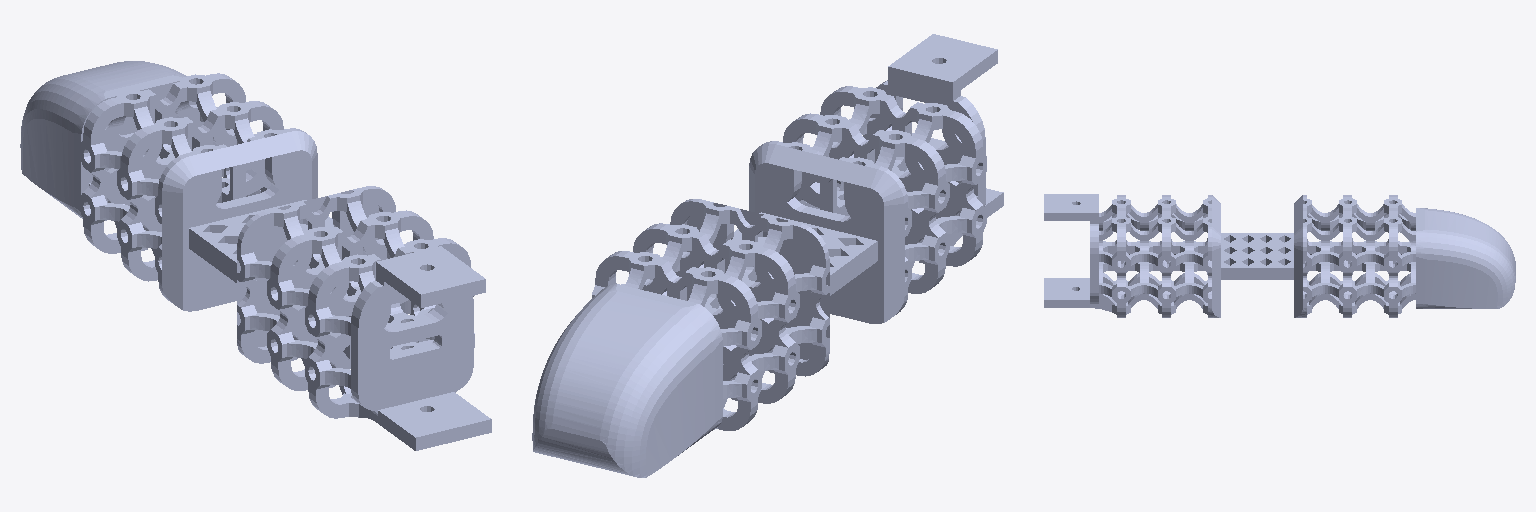
--- What the picture shows (computed from the rendered views, not written in the file) ---
Views: 3 orthographic renders of the robot side by side, from view 1: azimuth 30°, elevation 25°; view 2: azimuth 150°, elevation 25°; view 3: azimuth 270°, elevation 25°.
Robot: nfh1 — 26 links, 25 joints (25 revolute); root link base_link; default pose: all joints at 0.
Visible links, largest first — view 1: base_link, link17, link25, link8, link5, link23, link20, link2, link1, link4, link22, link7 (+7 smaller); view 2: link25, link8, link17, base_link, link23, link2, link20, link5, link21, link3, link18, link6 (+7 smaller); view 3: link25, base_link, link2, link8, link17, link23, link5, link20, link1, link24, link4, link19 (+6 smaller).
Link boxes in pixels (left/top/right/bottom): base_link: left=351, top=246, right=491, bottom=450; link17: left=155, top=128, right=317, bottom=311; link25: left=20, top=61, right=203, bottom=220; link8: left=237, top=186, right=395, bottom=363; link5: left=267, top=210, right=435, bottom=390; link23: left=80, top=73, right=245, bottom=253; link20: left=117, top=101, right=283, bottom=281; link2: left=305, top=238, right=474, bottom=418; link1: left=325, top=271, right=439, bottom=418; link4: left=287, top=228, right=431, bottom=367; link22: left=100, top=91, right=233, bottom=229; link7: left=250, top=201, right=383, bottom=339; link25: left=532, top=284, right=722, bottom=477; link8: left=749, top=141, right=911, bottom=323; link17: left=670, top=199, right=829, bottom=376; base_link: left=863, top=34, right=1003, bottom=238; link23: left=592, top=251, right=761, bottom=430; link2: left=820, top=86, right=986, bottom=266; link20: left=629, top=223, right=799, bottom=403; link5: left=783, top=113, right=949, bottom=293; link21: left=646, top=241, right=778, bottom=379; link3: left=833, top=104, right=966, bottom=242; link18: left=683, top=213, right=816, bottom=352; link6: left=812, top=131, right=928, bottom=261; link25: left=1416, top=208, right=1515, bottom=308; base_link: left=1044, top=194, right=1098, bottom=308; link2: left=1112, top=195, right=1130, bottom=317; link8: left=1203, top=195, right=1220, bottom=317; link17: left=1294, top=195, right=1311, bottom=317; link23: left=1384, top=195, right=1401, bottom=317; link5: left=1158, top=195, right=1175, bottom=317; link20: left=1339, top=195, right=1356, bottom=317; link1: left=1099, top=205, right=1111, bottom=311; link24: left=1402, top=204, right=1415, bottom=308; link4: left=1144, top=204, right=1157, bottom=308; link19: left=1325, top=204, right=1338, bottom=308.
Size in the robot's own frame: 0.0239 by 0.104 by 0.0239 metres.
26 mesh visuals loaded from 26 distinct referenced files (26 binary STL).

The robot description file, URDF, robot "nfh1":
<?xml version="1.0" encoding="utf-8"?>
<!-- This URDF was automatically created by SolidWorks to URDF Exporter! Originally created by Stephen Brawner ([email redacted]) 
     Commit Version: 1.6.0-4-g7f85cfe  Build Version: 1.6.7995.38578
     For more information, please see http://wiki.ros.org/sw_urdf_exporter -->
<robot
  name="nfh1">
  <link
    name="base_link">
    <inertial>
      <origin
        xyz="3.38271077815477E-17 -0.00152665456174176 0.00013600619686752"
        rpy="0 0 0" />
      <mass
        value="0.0010106350811003" />
      <inertia
        ixx="8.21935074102693E-08"
        ixy="1.09069372994596E-22"
        ixz="-9.53793667748096E-23"
        iyy="8.91169172879906E-08"
        iyz="3.75545527808583E-10"
        izz="3.24854532993333E-08" />
    </inertial>
    <visual>
      <origin
        xyz="0 0 0"
        rpy="0 0 0" />
      <geometry>
        <mesh
          filename="../../nfh1/meshes/base_link.STL" />
      </geometry>
      <material
        name="">
        <color
          rgba="0.792156862745098 0.819607843137255 0.933333333333333 1" />
      </material>
    </visual>
    <collision>
      <origin
        xyz="0 0 0"
        rpy="0 0 0" />
      <geometry>
        <mesh
          filename="../../nfh1/meshes/base_link.STL" />
      </geometry>
    </collision>
  </link>
  <link
    name="link1">
    <inertial>
      <origin
        xyz="-3.02968277956714E-08 0.00113442134572195 -0.00103189701894815"
        rpy="0 0 0" />
      <mass
        value="0.000198782228473331" />
      <inertia
        ixx="1.54756445032477E-09"
        ixy="1.04920853826156E-14"
        ixz="1.20628751644808E-14"
        iyy="7.78597837435174E-09"
        iyz="2.60644031070248E-11"
        izz="6.52448985383517E-09" />
    </inertial>
    <visual>
      <origin
        xyz="0 0 0"
        rpy="0 0 0" />
      <geometry>
        <mesh
          filename="../../nfh1/meshes/link1.STL" />
      </geometry>
      <material
        name="">
        <color
          rgba="0.792156862745098 0.819607843137255 0.933333333333333 1" />
      </material>
    </visual>
    <collision>
      <origin
        xyz="0 0 0"
        rpy="0 0 0" />
      <geometry>
        <mesh
          filename="../../nfh1/meshes/link1.STL" />
      </geometry>
    </collision>
  </link>
  <joint
    name="joint1"
    type="revolute">
    <origin
      xyz="0 0.002 -0.00043547"
      rpy="0 0 0" />
    <parent
      link="base_link" />
    <child
      link="link1" />
    <axis
      xyz="1 0 0" />
    <limit
      lower="0"
      upper="3"
      effort="0"
      velocity="0" />
  </joint>
  <link
    name="link2">
    <inertial>
      <origin
        xyz="2.04116237800811E-14 0.00199999999999673 2.25687524224583E-15"
        rpy="0 0 0" />
      <mass
        value="0.000426578933420392" />
      <inertia
        ixx="2.40312572201313E-08"
        ixy="1.08441426979082E-20"
        ixz="1.58390450486601E-14"
        iyy="5.02579655004393E-08"
        iyz="-8.12741302547014E-22"
        izz="2.69722292223729E-08" />
    </inertial>
    <visual>
      <origin
        xyz="0 0 0"
        rpy="0 0 0" />
      <geometry>
        <mesh
          filename="../../nfh1/meshes/link2.STL" />
      </geometry>
      <material
        name="">
        <color
          rgba="0.792156862745098 0.819607843137255 0.933333333333333 1" />
      </material>
    </visual>
    <collision>
      <origin
        xyz="0 0 0"
        rpy="0 0 0" />
      <geometry>
        <mesh
          filename="../../nfh1/meshes/link2.STL" />
      </geometry>
    </collision>
  </link>
  <joint
    name="joint2"
    type="revolute">
    <origin
      xyz="0 0.003 0"
      rpy="0 0 0" />
    <parent
      link="link1" />
    <child
      link="link2" />
    <axis
      xyz="1 0 0" />
    <limit
      lower="0"
      upper="3"
      effort="0"
      velocity="0" />
  </joint>
  <link
    name="link3">
    <inertial>
      <origin
        xyz="-1.85210429458349E-09 0.00188788673228118 9.25942005708391E-09"
        rpy="0 0 0" />
      <mass
        value="0.000177041699595263" />
      <inertia
        ixx="1.04521718092597E-09"
        ixy="8.84382829525734E-16"
        ixz="-3.68957976869567E-14"
        iyy="6.780090216707E-09"
        iyz="3.47697738614603E-16"
        izz="5.99075813384719E-09" />
    </inertial>
    <visual>
      <origin
        xyz="0 0 0"
        rpy="0 0 0" />
      <geometry>
        <mesh
          filename="../../nfh1/meshes/link3.STL" />
      </geometry>
      <material
        name="">
        <color
          rgba="0.792156862745098 0.819607843137255 0.933333333333333 1" />
      </material>
    </visual>
    <collision>
      <origin
        xyz="0 0 0"
        rpy="0 0 0" />
      <geometry>
        <mesh
          filename="../../nfh1/meshes/link3.STL" />
      </geometry>
    </collision>
  </link>
  <joint
    name="joint3"
    type="revolute">
    <origin
      xyz="0 0.004 0"
      rpy="0 0 0" />
    <parent
      link="link2" />
    <child
      link="link3" />
    <axis
      xyz="1 0 0" />
    <limit
      lower="0"
      upper="3"
      effort="0"
      velocity="0" />
  </joint>
  <link
    name="link4">
    <inertial>
      <origin
        xyz="-1.85220484522769E-09 0.00111211326769552 -9.25926902685392E-09"
        rpy="0 0 0" />
      <mass
        value="0.000177041699591455" />
      <inertia
        ixx="1.04521718092059E-09"
        ixy="-8.84414594885132E-16"
        ixz="3.68958562620462E-14"
        iyy="6.78009021647453E-09"
        iyz="3.47696486133909E-16"
        izz="5.99075813360752E-09" />
    </inertial>
    <visual>
      <origin
        xyz="0 0 0"
        rpy="0 0 0" />
      <geometry>
        <mesh
          filename="../../nfh1/meshes/link4.STL" />
      </geometry>
      <material
        name="">
        <color
          rgba="0.792156862745098 0.819607843137255 0.933333333333333 1" />
      </material>
    </visual>
    <collision>
      <origin
        xyz="0 0 0"
        rpy="0 0 0" />
      <geometry>
        <mesh
          filename="../../nfh1/meshes/link4.STL" />
      </geometry>
    </collision>
  </link>
  <joint
    name="joint4"
    type="revolute">
    <origin
      xyz="0 0.003 0"
      rpy="0 0 0" />
    <parent
      link="link3" />
    <child
      link="link4" />
    <axis
      xyz="1 0 0" />
    <limit
      lower="0"
      upper="3"
      effort="0"
      velocity="0" />
  </joint>
  <link
    name="link5">
    <inertial>
      <origin
        xyz="3.16587034365767E-16 0.00199999999999984 2.94902990916057E-17"
        rpy="0 0 0" />
      <mass
        value="0.000426578933419002" />
      <inertia
        ixx="2.40312572201162E-08"
        ixy="5.53023048996122E-22"
        ixz="1.58390444679449E-14"
        iyy="5.02579655003556E-08"
        iyz="3.33937442954536E-22"
        izz="2.69722292223007E-08" />
    </inertial>
    <visual>
      <origin
        xyz="0 0 0"
        rpy="0 0 0" />
      <geometry>
        <mesh
          filename="../../nfh1/meshes/link5.STL" />
      </geometry>
      <material
        name="">
        <color
          rgba="0.792156862745098 0.819607843137255 0.933333333333333 1" />
      </material>
    </visual>
    <collision>
      <origin
        xyz="0 0 0"
        rpy="0 0 0" />
      <geometry>
        <mesh
          filename="../../nfh1/meshes/link5.STL" />
      </geometry>
    </collision>
  </link>
  <joint
    name="joint5"
    type="revolute">
    <origin
      xyz="0 0.003 0"
      rpy="0 0 0" />
    <parent
      link="link4" />
    <child
      link="link5" />
    <axis
      xyz="1 0 0" />
    <limit
      lower="0"
      upper="3"
      effort="0"
      velocity="0" />
  </joint>
  <link
    name="link6">
    <inertial>
      <origin
        xyz="-1.85304629713584E-09 0.00188788673222637 9.25894851587505E-09"
        rpy="0 0 0" />
      <mass
        value="0.000177041699612827" />
      <inertia
        ixx="1.04521718094737E-09"
        ixy="8.84331514880089E-16"
        ixz="-3.68957016060218E-14"
        iyy="6.78009021785023E-09"
        iyz="3.47704440244518E-16"
        izz="5.99075813499962E-09" />
    </inertial>
    <visual>
      <origin
        xyz="0 0 0"
        rpy="0 0 0" />
      <geometry>
        <mesh
          filename="../../nfh1/meshes/link6.STL" />
      </geometry>
      <material
        name="">
        <color
          rgba="0.792156862745098 0.819607843137255 0.933333333333333 1" />
      </material>
    </visual>
    <collision>
      <origin
        xyz="0 0 0"
        rpy="0 0 0" />
      <geometry>
        <mesh
          filename="../../nfh1/meshes/link6.STL" />
      </geometry>
    </collision>
  </link>
  <joint
    name="joint6"
    type="revolute">
    <origin
      xyz="0 0.004 0"
      rpy="0 0 0" />
    <parent
      link="link5" />
    <child
      link="link6" />
    <axis
      xyz="1 0 0" />
    <limit
      lower="0"
      upper="3"
      effort="0"
      velocity="0" />
  </joint>
  <link
    name="link7">
    <inertial>
      <origin
        xyz="-1.85217126965481E-09 0.00111211326771995 -9.2592722395618E-09"
        rpy="0 0 0" />
      <mass
        value="0.000177041699592343" />
      <inertia
        ixx="1.04521718091653E-09"
        ixy="-8.84384732571617E-16"
        ixz="3.68959110097901E-14"
        iyy="6.78009021664487E-09"
        iyz="3.47696110296643E-16"
        izz="5.99075813379512E-09" />
    </inertial>
    <visual>
      <origin
        xyz="0 0 0"
        rpy="0 0 0" />
      <geometry>
        <mesh
          filename="../../nfh1/meshes/link7.STL" />
      </geometry>
      <material
        name="">
        <color
          rgba="0.792156862745098 0.819607843137255 0.933333333333333 1" />
      </material>
    </visual>
    <collision>
      <origin
        xyz="0 0 0"
        rpy="0 0 0" />
      <geometry>
        <mesh
          filename="../../nfh1/meshes/link7.STL" />
      </geometry>
    </collision>
  </link>
  <joint
    name="joint7"
    type="revolute">
    <origin
      xyz="0 0.003 0"
      rpy="0 0 0" />
    <parent
      link="link6" />
    <child
      link="link7" />
    <axis
      xyz="1 0 0" />
    <limit
      lower="0"
      upper="3"
      effort="0"
      velocity="0" />
  </joint>
  <link
    name="link8">
    <inertial>
      <origin
        xyz="-3.03888357620213E-09 0.00259277247993408 -0.00095049373758898"
        rpy="0 0 0" />
      <mass
        value="0.0010266417760455" />
      <inertia
        ixx="4.11004796506741E-08"
        ixy="-2.66382276095118E-14"
        ixz="-1.7805024963789E-14"
        iyy="8.86548394837283E-08"
        iyz="5.31597018204856E-10"
        izz="4.92201079166408E-08" />
    </inertial>
    <visual>
      <origin
        xyz="0 0 0"
        rpy="0 0 0" />
      <geometry>
        <mesh
          filename="../../nfh1/meshes/link8.STL" />
      </geometry>
      <material
        name="">
        <color
          rgba="0.792156862745098 0.819607843137255 0.933333333333333 1" />
      </material>
    </visual>
    <collision>
      <origin
        xyz="0 0 0"
        rpy="0 0 0" />
      <geometry>
        <mesh
          filename="../../nfh1/meshes/link8.STL" />
      </geometry>
    </collision>
  </link>
  <joint
    name="joint8"
    type="revolute">
    <origin
      xyz="0 0.003 0"
      rpy="0 0 0" />
    <parent
      link="link7" />
    <child
      link="link8" />
    <axis
      xyz="1 0 0" />
    <limit
      lower="0"
      upper="3"
      effort="0"
      velocity="0" />
  </joint>
  <link
    name="link9">
    <inertial>
      <origin
        xyz="-5.46437894932694E-17 0.000833333333333332 -1.73472347597681E-18"
        rpy="0 0 0" />
      <mass
        value="8.10000000000002E-05" />
      <inertia
        ixx="8.43750000000006E-11"
        ixy="2.92242883488534E-24"
        ixz="-8.55086023776014E-25"
        iyy="2.31075000000001E-09"
        iyz="-2.97461309303528E-26"
        izz="2.27362500000001E-09" />
    </inertial>
    <visual>
      <origin
        xyz="0 0 0"
        rpy="0 0 0" />
      <geometry>
        <mesh
          filename="../../nfh1/meshes/link9.STL" />
      </geometry>
      <material
        name="">
        <color
          rgba="0.792156862745098 0.819607843137255 0.933333333333333 1" />
      </material>
    </visual>
    <collision>
      <origin
        xyz="0 0 0"
        rpy="0 0 0" />
      <geometry>
        <mesh
          filename="../../nfh1/meshes/link9.STL" />
      </geometry>
    </collision>
  </link>
  <joint
    name="joint9"
    type="revolute">
    <origin
      xyz="0 0.004 0"
      rpy="0 0 0" />
    <parent
      link="link8" />
    <child
      link="link9" />
    <axis
      xyz="1 0 0" />
    <limit
      lower="0"
      upper="3"
      effort="0"
      velocity="0" />
  </joint>
  <link
    name="link10">
    <inertial>
      <origin
        xyz="-5.63785129692462E-17 0.00116666666666666 -1.73472347597681E-18"
        rpy="0 0 0" />
      <mass
        value="8.10000000000005E-05" />
      <inertia
        ixx="8.43750000000004E-11"
        ixy="-3.07542157065845E-24"
        ixz="3.42796988361759E-25"
        iyy="2.31075000000001E-09"
        iyz="1.86720834430788E-26"
        izz="2.27362500000001E-09" />
    </inertial>
    <visual>
      <origin
        xyz="0 0 0"
        rpy="0 0 0" />
      <geometry>
        <mesh
          filename="../../nfh1/meshes/link10.STL" />
      </geometry>
      <material
        name="">
        <color
          rgba="0.792156862745098 0.819607843137255 0.933333333333333 1" />
      </material>
    </visual>
    <collision>
      <origin
        xyz="0 0 0"
        rpy="0 0 0" />
      <geometry>
        <mesh
          filename="../../nfh1/meshes/link10.STL" />
      </geometry>
    </collision>
  </link>
  <joint
    name="joint10"
    type="revolute">
    <origin
      xyz="0 0.002 0"
      rpy="0 0 0" />
    <parent
      link="link9" />
    <child
      link="link10" />
    <axis
      xyz="1 0 0" />
    <limit
      lower="0"
      upper="3"
      effort="0"
      velocity="0" />
  </joint>
  <link
    name="link11">
    <inertial>
      <origin
        xyz="-3.64291929955129E-17 0.000833333333333332 -1.73472347597681E-18"
        rpy="0 0 0" />
      <mass
        value="8.09999999999997E-05" />
      <inertia
        ixx="8.43749999999972E-11"
        ixy="1.96738543955592E-24"
        ixz="-3.05994319520648E-25"
        iyy="2.31075E-09"
        iyz="-2.13678943482114E-26"
        izz="2.273625E-09" />
    </inertial>
    <visual>
      <origin
        xyz="0 0 0"
        rpy="0 0 0" />
      <geometry>
        <mesh
          filename="../../nfh1/meshes/link11.STL" />
      </geometry>
      <material
        name="">
        <color
          rgba="0.792156862745098 0.819607843137255 0.933333333333333 1" />
      </material>
    </visual>
    <collision>
      <origin
        xyz="0 0 0"
        rpy="0 0 0" />
      <geometry>
        <mesh
          filename="../../nfh1/meshes/link11.STL" />
      </geometry>
    </collision>
  </link>
  <joint
    name="joint11"
    type="revolute">
    <origin
      xyz="0 0.002 0"
      rpy="0 0 0" />
    <parent
      link="link10" />
    <child
      link="link11" />
    <axis
      xyz="1 0 0" />
    <limit
      lower="0"
      upper="3"
      effort="0"
      velocity="0" />
  </joint>
  <link
    name="link12">
    <inertial>
      <origin
        xyz="-3.72965547335014E-17 0.00116666666666667 -1.73472347597681E-18"
        rpy="0 0 0" />
      <mass
        value="8.10000000000007E-05" />
      <inertia
        ixx="8.43750000000011E-11"
        ixy="-1.93605819528781E-24"
        ixz="-2.95930406553499E-26"
        iyy="2.31075000000001E-09"
        iyz="9.95985777925864E-27"
        izz="2.27362500000001E-09" />
    </inertial>
    <visual>
      <origin
        xyz="0 0 0"
        rpy="0 0 0" />
      <geometry>
        <mesh
          filename="../../nfh1/meshes/link12.STL" />
      </geometry>
      <material
        name="">
        <color
          rgba="0.792156862745098 0.819607843137255 0.933333333333333 1" />
      </material>
    </visual>
    <collision>
      <origin
        xyz="0 0 0"
        rpy="0 0 0" />
      <geometry>
        <mesh
          filename="../../nfh1/meshes/link12.STL" />
      </geometry>
    </collision>
  </link>
  <joint
    name="joint12"
    type="revolute">
    <origin
      xyz="0 0.002 0"
      rpy="0 0 0" />
    <parent
      link="link11" />
    <child
      link="link12" />
    <axis
      xyz="1 0 0" />
    <limit
      lower="0"
      upper="3"
      effort="0"
      velocity="0" />
  </joint>
  <link
    name="link13">
    <inertial>
      <origin
        xyz="-1.90819582357449E-17 0.000833333333333339 1.73472347597681E-18"
        rpy="0 0 0" />
      <mass
        value="8.09999999999995E-05" />
      <inertia
        ixx="8.43749999999985E-11"
        ixy="1.0021015778622E-24"
        ixz="-2.80106875926232E-25"
        iyy="2.31075E-09"
        iyz="-3.81924985088125E-26"
        izz="2.273625E-09" />
    </inertial>
    <visual>
      <origin
        xyz="0 0 0"
        rpy="0 0 0" />
      <geometry>
        <mesh
          filename="../../nfh1/meshes/link13.STL" />
      </geometry>
      <material
        name="">
        <color
          rgba="0.792156862745098 0.819607843137255 0.933333333333333 1" />
      </material>
    </visual>
    <collision>
      <origin
        xyz="0 0 0"
        rpy="0 0 0" />
      <geometry>
        <mesh
          filename="../../nfh1/meshes/link13.STL" />
      </geometry>
    </collision>
  </link>
  <joint
    name="joint13"
    type="revolute">
    <origin
      xyz="0 0.002 0"
      rpy="0 0 0" />
    <parent
      link="link12" />
    <child
      link="link13" />
    <axis
      xyz="1 0 0" />
    <limit
      lower="0"
      upper="3"
      effort="0"
      velocity="0" />
  </joint>
  <link
    name="link14">
    <inertial>
      <origin
        xyz="-1.82145964977565E-17 0.00116666666666666 0"
        rpy="0 0 0" />
      <mass
        value="8.10000000000009E-05" />
      <inertia
        ixx="8.43750000000015E-11"
        ixy="-1.01141644743106E-24"
        ixz="2.30587450828703E-25"
        iyy="2.31075000000001E-09"
        iyz="-7.05249727203203E-27"
        izz="2.27362500000001E-09" />
    </inertial>
    <visual>
      <origin
        xyz="0 0 0"
        rpy="0 0 0" />
      <geometry>
        <mesh
          filename="../../nfh1/meshes/link14.STL" />
      </geometry>
      <material
        name="">
        <color
          rgba="0.792156862745098 0.819607843137255 0.933333333333333 1" />
      </material>
    </visual>
    <collision>
      <origin
        xyz="0 0 0"
        rpy="0 0 0" />
      <geometry>
        <mesh
          filename="../../nfh1/meshes/link14.STL" />
      </geometry>
    </collision>
  </link>
  <joint
    name="joint14"
    type="revolute">
    <origin
      xyz="0 0.002 0"
      rpy="0 0 0" />
    <parent
      link="link13" />
    <child
      link="link14" />
    <axis
      xyz="1 0 0" />
    <limit
      lower="0"
      upper="3"
      effort="0"
      velocity="0" />
  </joint>
  <link
    name="link15">
    <inertial>
      <origin
        xyz="0 0.00083333 1.7347E-18"
        rpy="0 0 0" />
      <mass
        value="8.1E-05" />
      <inertia
        ixx="8.4375E-11"
        ixy="9.7337E-26"
        ixz="3.4405E-25"
        iyy="2.3107E-09"
        iyz="-1.032E-25"
        izz="2.2736E-09" />
    </inertial>
    <visual>
      <origin
        xyz="0 0 0"
        rpy="0 0 0" />
      <geometry>
        <mesh
          filename="../../nfh1/meshes/link15.STL" />
      </geometry>
      <material
        name="">
        <color
          rgba="0.79216 0.81961 0.93333 1" />
      </material>
    </visual>
    <collision>
      <origin
        xyz="0 0 0"
        rpy="0 0 0" />
      <geometry>
        <mesh
          filename="../../nfh1/meshes/link15.STL" />
      </geometry>
    </collision>
  </link>
  <joint
    name="joint15"
    type="revolute">
    <origin
      xyz="0 0.002 0"
      rpy="0 0 0" />
    <parent
      link="link14" />
    <child
      link="link15" />
    <axis
      xyz="1 0 0" />
    <limit
      lower="0"
      upper="3"
      effort="0"
      velocity="0" />
  </joint>
  <link
    name="link16">
    <inertial>
      <origin
        xyz="-8.67361737988404E-19 0.00116666666666665 -1.73472347597681E-18"
        rpy="0 0 0" />
      <mass
        value="8.09999999999998E-05" />
      <inertia
        ixx="8.43750000000003E-11"
        ixy="-1.45597427740292E-25"
        ixz="1.33569597137202E-25"
        iyy="2.31074999999998E-09"
        iyz="-5.16546120738732E-27"
        izz="2.27362499999998E-09" />
    </inertial>
    <visual>
      <origin
        xyz="0 0 0"
        rpy="0 0 0" />
      <geometry>
        <mesh
          filename="../../nfh1/meshes/link16.STL" />
      </geometry>
      <material
        name="">
        <color
          rgba="0.792156862745098 0.819607843137255 0.933333333333333 1" />
      </material>
    </visual>
    <collision>
      <origin
        xyz="0 0 0"
        rpy="0 0 0" />
      <geometry>
        <mesh
          filename="../../nfh1/meshes/link16.STL" />
      </geometry>
    </collision>
  </link>
  <joint
    name="joint16"
    type="revolute">
    <origin
      xyz="0 0.002 0"
      rpy="0 0 0" />
    <parent
      link="link15" />
    <child
      link="link16" />
    <axis
      xyz="1 0 0" />
    <limit
      lower="0"
      upper="3"
      effort="0"
      velocity="0" />
  </joint>
  <link
    name="link17">
    <inertial>
      <origin
        xyz="3.0389E-09 0.0014072 -0.00095049"
        rpy="0 0 0" />
      <mass
        value="0.0010266" />
      <inertia
        ixx="4.11E-08"
        ixy="-2.6638E-14"
        ixz="1.7805E-14"
        iyy="8.8655E-08"
        iyz="-5.316E-10"
        izz="4.922E-08" />
    </inertial>
    <visual>
      <origin
        xyz="0 0 0"
        rpy="0 0 0" />
      <geometry>
        <mesh
          filename="../../nfh1/meshes/link17.STL" />
      </geometry>
      <material
        name="">
        <color
          rgba="0.79216 0.81961 0.93333 1" />
      </material>
    </visual>
    <collision>
      <origin
        xyz="0 0 0"
        rpy="0 0 0" />
      <geometry>
        <mesh
          filename="../../nfh1/meshes/link17.STL" />
      </geometry>
    </collision>
  </link>
  <joint
    name="joint17"
    type="revolute">
    <origin
      xyz="0 0.002 0"
      rpy="0 0 0" />
    <parent
      link="link16" />
    <child
      link="link17" />
    <axis
      xyz="1 0 0" />
    <limit
      lower="0"
      upper="3"
      effort="0"
      velocity="0" />
  </joint>
  <link
    name="link18">
    <inertial>
      <origin
        xyz="-1.85210907721611E-09 0.00188788673228193 9.25941985932544E-09"
        rpy="0 0 0" />
      <mass
        value="0.000177041699595134" />
      <inertia
        ixx="1.04521718092574E-09"
        ixy="8.84381809648875E-16"
        ixz="-3.68957976733367E-14"
        iyy="6.78009021670153E-09"
        iyz="3.47697753969144E-16"
        izz="5.99075813384154E-09" />
    </inertial>
    <visual>
      <origin
        xyz="0 0 0"
        rpy="0 0 0" />
      <geometry>
        <mesh
          filename="../../nfh1/meshes/link18.STL" />
      </geometry>
      <material
        name="">
        <color
          rgba="0.792156862745098 0.819607843137255 0.933333333333333 1" />
      </material>
    </visual>
    <collision>
      <origin
        xyz="0 0 0"
        rpy="0 0 0" />
      <geometry>
        <mesh
          filename="../../nfh1/meshes/link18.STL" />
      </geometry>
    </collision>
  </link>
  <joint
    name="joint18"
    type="revolute">
    <origin
      xyz="0 0.004 0"
      rpy="0 0 0" />
    <parent
      link="link17" />
    <child
      link="link18" />
    <axis
      xyz="1 0 0" />
    <limit
      lower="0"
      upper="3"
      effort="0"
      velocity="0" />
  </joint>
  <link
    name="link19">
    <inertial>
      <origin
        xyz="-1.85312260588683E-09 0.00111211326777413 -9.2596469467715E-09"
        rpy="0 0 0" />
      <mass
        value="0.00017704169961621" />
      <inertia
        ixx="1.045217180958E-09"
        ixy="-8.84332056180977E-16"
        ixz="3.68960054813993E-14"
        iyy="6.78009021793177E-09"
        iyz="3.47689119657577E-16"
        izz="5.99075813507066E-09" />
    </inertial>
    <visual>
      <origin
        xyz="0 0 0"
        rpy="0 0 0" />
      <geometry>
        <mesh
          filename="../../nfh1/meshes/link19.STL" />
      </geometry>
      <material
        name="">
        <color
          rgba="0.792156862745098 0.819607843137255 0.933333333333333 1" />
      </material>
    </visual>
    <collision>
      <origin
        xyz="0 0 0"
        rpy="0 0 0" />
      <geometry>
        <mesh
          filename="../../nfh1/meshes/link19.STL" />
      </geometry>
    </collision>
  </link>
  <joint
    name="joint19"
    type="revolute">
    <origin
      xyz="0 0.003 0"
      rpy="0 0 0" />
    <parent
      link="link18" />
    <child
      link="link19" />
    <axis
      xyz="1 0 0" />
    <limit
      lower="0"
      upper="3"
      effort="0"
      velocity="0" />
  </joint>
  <link
    name="link20">
    <inertial>
      <origin
        xyz="2.949E-16 0.002 -6.245E-17"
        rpy="0 0 0" />
      <mass
        value="0.00042658" />
      <inertia
        ixx="2.4031E-08"
        ixy="-5.7522E-22"
        ixz="-1.5839E-14"
        iyy="5.0258E-08"
        iyz="-3.241E-22"
        izz="2.6972E-08" />
    </inertial>
    <visual>
      <origin
        xyz="0 0 0"
        rpy="0 0 0" />
      <geometry>
        <mesh
          filename="../../nfh1/meshes/link20.STL" />
      </geometry>
      <material
        name="">
        <color
          rgba="0.79216 0.81961 0.93333 1" />
      </material>
    </visual>
    <collision>
      <origin
        xyz="0 0 0"
        rpy="0 0 0" />
      <geometry>
        <mesh
          filename="../../nfh1/meshes/link20.STL" />
      </geometry>
    </collision>
  </link>
  <joint
    name="joint20"
    type="revolute">
    <origin
      xyz="0 0.003 0"
      rpy="0 0 0" />
    <parent
      link="link19" />
    <child
      link="link20" />
    <axis
      xyz="1 0 0" />
    <limit
      lower="0"
      upper="3"
      effort="0"
      velocity="0" />
  </joint>
  <link
    name="link21">
    <inertial>
      <origin
        xyz="-1.85212578520527E-09 0.00188788673230469 9.2593287238929E-09"
        rpy="0 0 0" />
      <mass
        value="0.000177041699588148" />
      <inertia
        ixx="1.04521718091002E-09"
        ixy="8.84414436874819E-16"
        ixz="-3.68958511803103E-14"
        iyy="6.78009021639738E-09"
        iyz="3.47697111230421E-16"
        izz="5.99075813354088E-09" />
    </inertial>
    <visual>
      <origin
        xyz="0 0 0"
        rpy="0 0 0" />
      <geometry>
        <mesh
          filename="../../nfh1/meshes/link21.STL" />
      </geometry>
      <material
        name="">
        <color
          rgba="0.792156862745098 0.819607843137255 0.933333333333333 1" />
      </material>
    </visual>
    <collision>
      <origin
        xyz="0 0 0"
        rpy="0 0 0" />
      <geometry>
        <mesh
          filename="../../nfh1/meshes/link21.STL" />
      </geometry>
    </collision>
  </link>
  <joint
    name="joint21"
    type="revolute">
    <origin
      xyz="0 0.004 0"
      rpy="0 0 0" />
    <parent
      link="link20" />
    <child
      link="link21" />
    <axis
      xyz="1 0 0" />
    <limit
      lower="0"
      upper="3"
      effort="0"
      velocity="0" />
  </joint>
  <link
    name="link22">
    <inertial>
      <origin
        xyz="-1.8522E-09 0.0011121 -9.2593E-09"
        rpy="0 0 0" />
      <mass
        value="0.00017704" />
      <inertia
        ixx="1.0452E-09"
        ixy="-8.8438E-16"
        ixz="3.6896E-14"
        iyy="6.7801E-09"
        iyz="3.477E-16"
        izz="5.9908E-09" />
    </inertial>
    <visual>
      <origin
        xyz="0 0 0"
        rpy="0 0 0" />
      <geometry>
        <mesh
          filename="../../nfh1/meshes/link22.STL" />
      </geometry>
      <material
        name="">
        <color
          rgba="0.79216 0.81961 0.93333 1" />
      </material>
    </visual>
    <collision>
      <origin
        xyz="0 0 0"
        rpy="0 0 0" />
      <geometry>
        <mesh
          filename="../../nfh1/meshes/link22.STL" />
      </geometry>
    </collision>
  </link>
  <joint
    name="joint22"
    type="revolute">
    <origin
      xyz="0 0.003 0"
      rpy="0 0 0" />
    <parent
      link="link21" />
    <child
      link="link22" />
    <axis
      xyz="1 0 0" />
    <limit
      lower="0"
      upper="3"
      effort="0"
      velocity="0" />
  </joint>
  <link
    name="link23">
    <inertial>
      <origin
        xyz="-4.25528023494798E-09 0.00200319378405478 1.99201304004071E-05"
        rpy="0 0 0" />
      <mass
        value="0.000427551960688234" />
      <inertia
        ixx="2.41076400365124E-08"
        ixy="7.90954943747629E-15"
        ixz="-3.44632846965697E-15"
        iyy="5.03556158003561E-08"
        iyz="-1.18913452372501E-11"
        izz="2.69974746683614E-08" />
    </inertial>
    <visual>
      <origin
        xyz="0 0 0"
        rpy="0 0 0" />
      <geometry>
        <mesh
          filename="../../nfh1/meshes/link23.STL" />
      </geometry>
      <material
        name="">
        <color
          rgba="0.792156862745098 0.819607843137255 0.933333333333333 1" />
      </material>
    </visual>
    <collision>
      <origin
        xyz="0 0 0"
        rpy="0 0 0" />
      <geometry>
        <mesh
          filename="../../nfh1/meshes/link23.STL" />
      </geometry>
    </collision>
  </link>
  <joint
    name="joint23"
    type="revolute">
    <origin
      xyz="0 0.003 0"
      rpy="0 0 0" />
    <parent
      link="link22" />
    <child
      link="link23" />
    <axis
      xyz="1 0 0" />
    <limit
      lower="0"
      upper="3"
      effort="0"
      velocity="0" />
  </joint>
  <link
    name="link24">
    <inertial>
      <origin
        xyz="-3.38201900512702E-10 0.00188674420392113 5.18032967219001E-05"
        rpy="0 0 0" />
      <mass
        value="0.000178474248585628" />
      <inertia
        ixx="1.05271305605121E-09"
        ixy="7.39128121421579E-16"
        ixz="-3.65658382248024E-14"
        iyy="6.82195048329844E-09"
        iyz="5.92149616895043E-13"
        izz="6.02540767877401E-09" />
    </inertial>
    <visual>
      <origin
        xyz="0 0 0"
        rpy="0 0 0" />
      <geometry>
        <mesh
          filename="../../nfh1/meshes/link24.STL" />
      </geometry>
      <material
        name="">
        <color
          rgba="0.792156862745098 0.819607843137255 0.933333333333333 1" />
      </material>
    </visual>
    <collision>
      <origin
        xyz="0 0 0"
        rpy="0 0 0" />
      <geometry>
        <mesh
          filename="../../nfh1/meshes/link24.STL" />
      </geometry>
    </collision>
  </link>
  <joint
    name="joint24"
    type="revolute">
    <origin
      xyz="0 0.004 0"
      rpy="0 0 0" />
    <parent
      link="link23" />
    <child
      link="link24" />
    <axis
      xyz="1 0 0" />
    <limit
      lower="0"
      upper="3"
      effort="0"
      velocity="0" />
  </joint>
  <link
    name="link25">
    <inertial>
      <origin
        xyz="-1.17279588587524E-07 0.00934193942987209 -0.0010729332636391"
        rpy="0 0 0" />
      <mass
        value="0.00599011517829515" />
      <inertia
        ixx="3.31538192061756E-07"
        ixy="-1.75604651735912E-11"
        ixz="2.44055516157567E-12"
        iyy="2.98578307333115E-07"
        iyz="3.11639717813993E-08"
        izz="3.70079600322106E-07" />
    </inertial>
    <visual>
      <origin
        xyz="0 0 0"
        rpy="0 0 0" />
      <geometry>
        <mesh
          filename="../../nfh1/meshes/link25.STL" />
      </geometry>
      <material
        name="">
        <color
          rgba="0.792156862745098 0.819607843137255 0.933333333333333 1" />
      </material>
    </visual>
    <collision>
      <origin
        xyz="0 0 0"
        rpy="0 0 0" />
      <geometry>
        <mesh
          filename="../../nfh1/meshes/link25.STL" />
      </geometry>
    </collision>
  </link>
  <joint
    name="joint25"
    type="revolute">
    <origin
      xyz="0 0.003 0"
      rpy="0 0 0" />
    <parent
      link="link24" />
    <child
      link="link25" />
    <axis
      xyz="1 0 0" />
    <limit
      lower="0"
      upper="3"
      effort="0"
      velocity="0" />
  </joint>
</robot>
